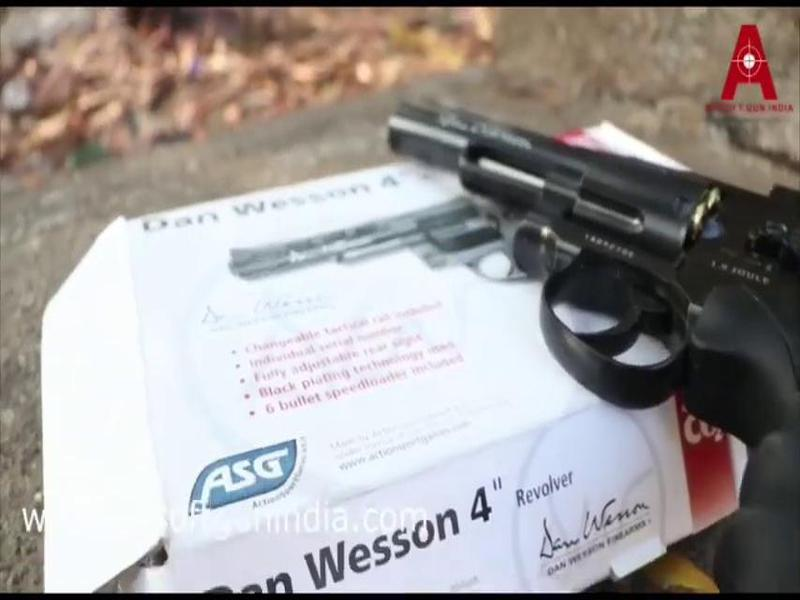Revolver: (373, 77, 800, 498)
